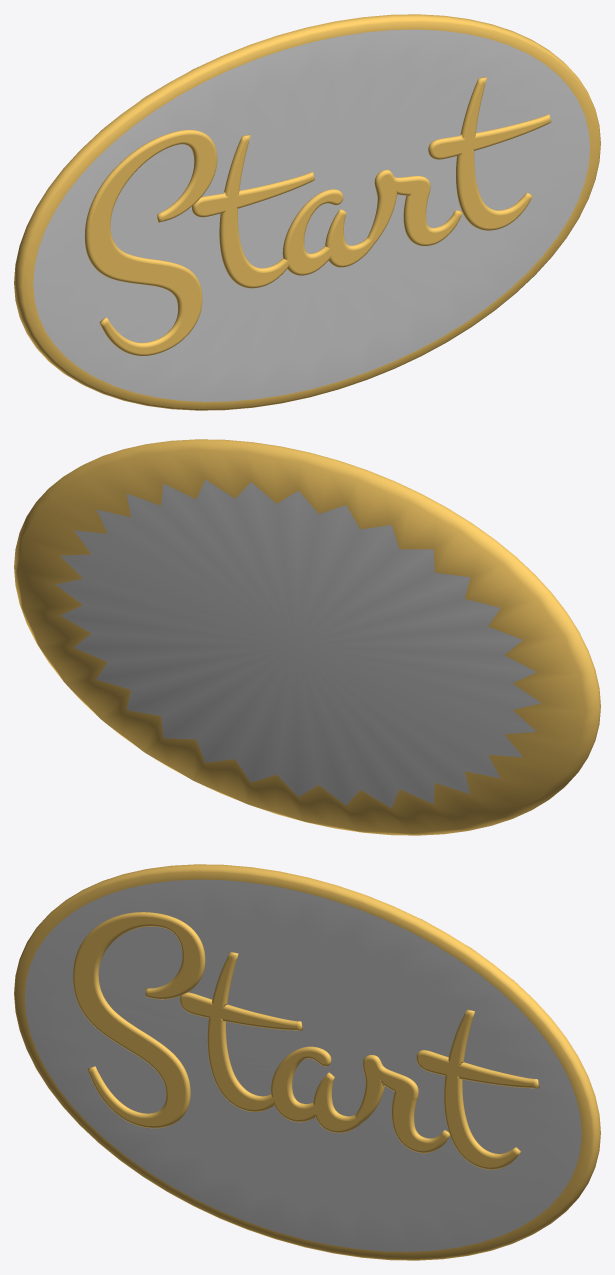
Rendered from start.glb.
The picture shows the model from 3 angles, top to bottom: view 1: azimuth 30°, elevation 25°; view 2: azimuth 150°, elevation 25°; view 3: azimuth 330°, elevation 25°; orthographic projection.
Parts seen in each view (by area): view 1: Cylinder; view 2: Cylinder; view 3: Cylinder.
Boxes of the visible parts, x1,y1,x2,y2 form: Cylinder: (14,14,600,410); Cylinder: (14,439,600,835); Cylinder: (14,864,600,1260).
Size of the model in its own units: 6.37 by 3.84 by 0.3684.
